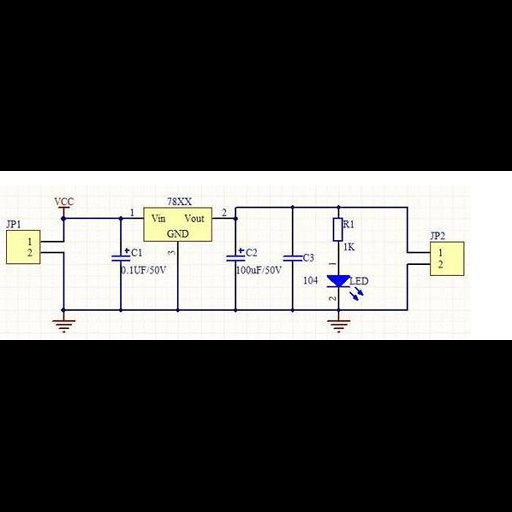capacitor: (279, 253, 304, 264)
firstled: (326, 273, 366, 302)
firstpolarcapacitor: (107, 245, 131, 264), (223, 245, 246, 264)
firstresistance: (329, 214, 343, 245)
gnd: (325, 318, 354, 334), (51, 318, 76, 334)
